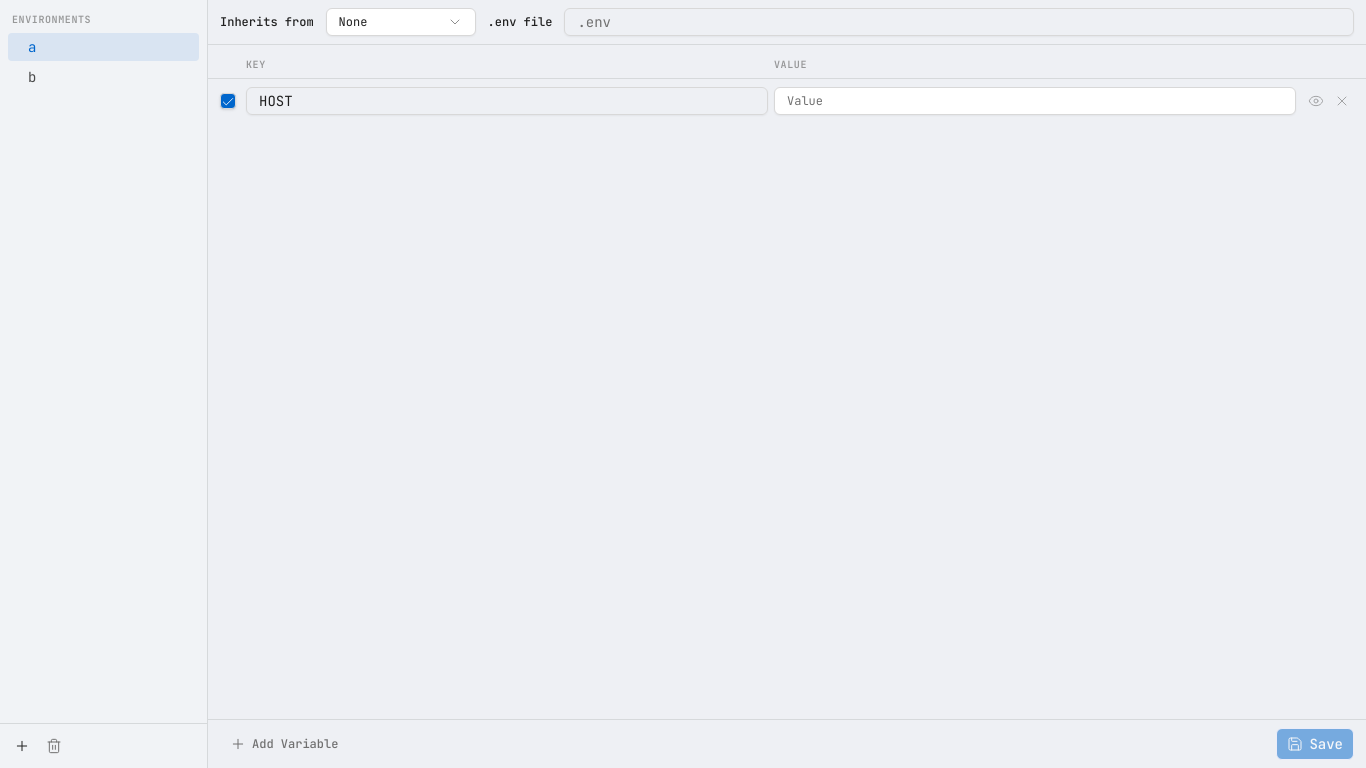
WorkspaceEnvironmentsTab refresh › a_refetch_keeps_unsaved_edits_in_the_open_global_environment
This screenshot has width=1366, height=768.
Type "_EDITED" into the field named "Variable key 1" at (507, 101), box [246,87,768,115]
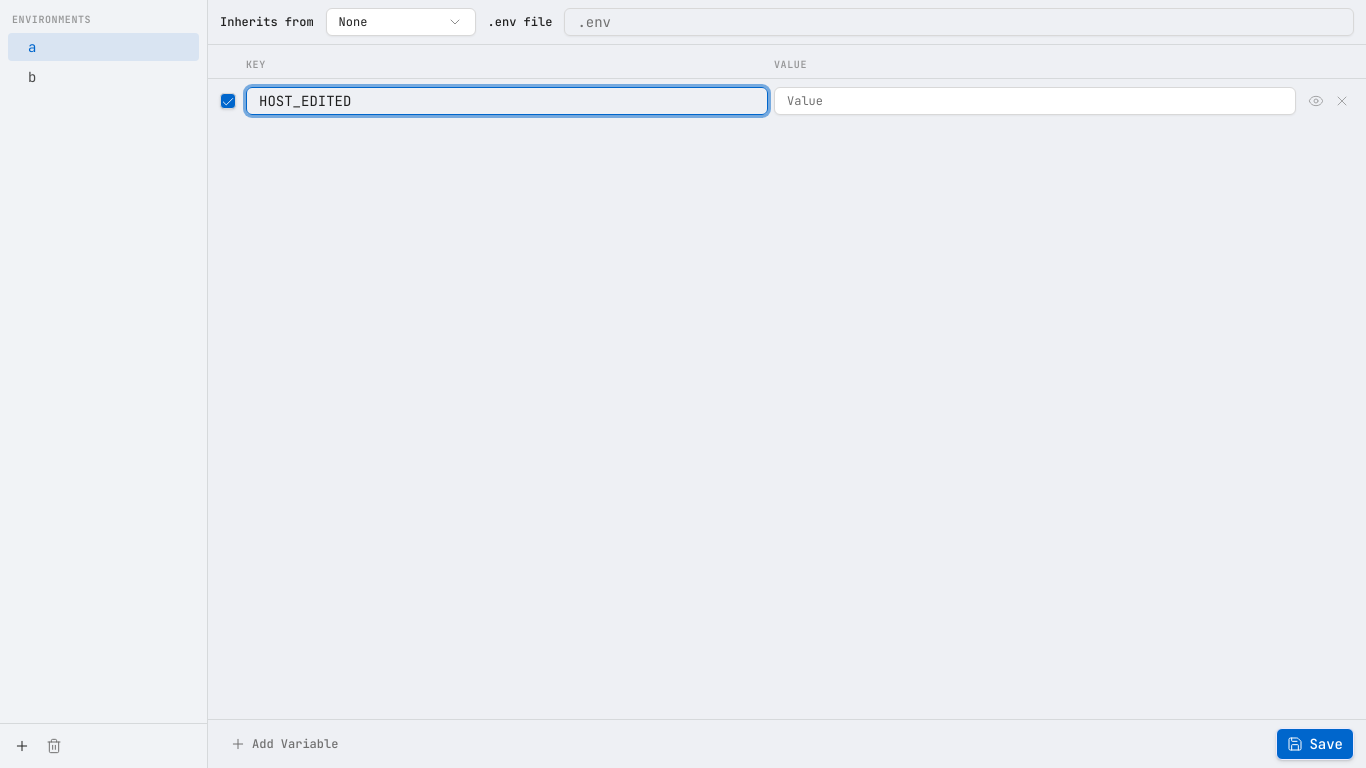
Result: the field named "Variable key 1" holds "HOST_EDITED" at [246,87,768,115]
